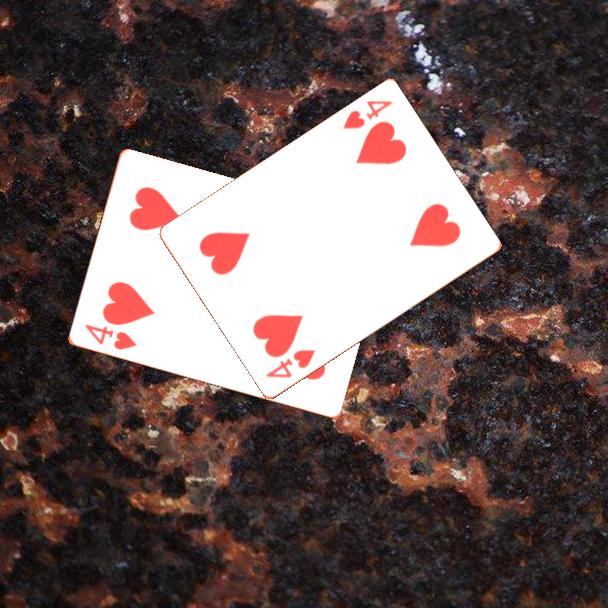h04: (339, 97, 396, 133), (262, 346, 318, 382), (81, 321, 140, 353)
